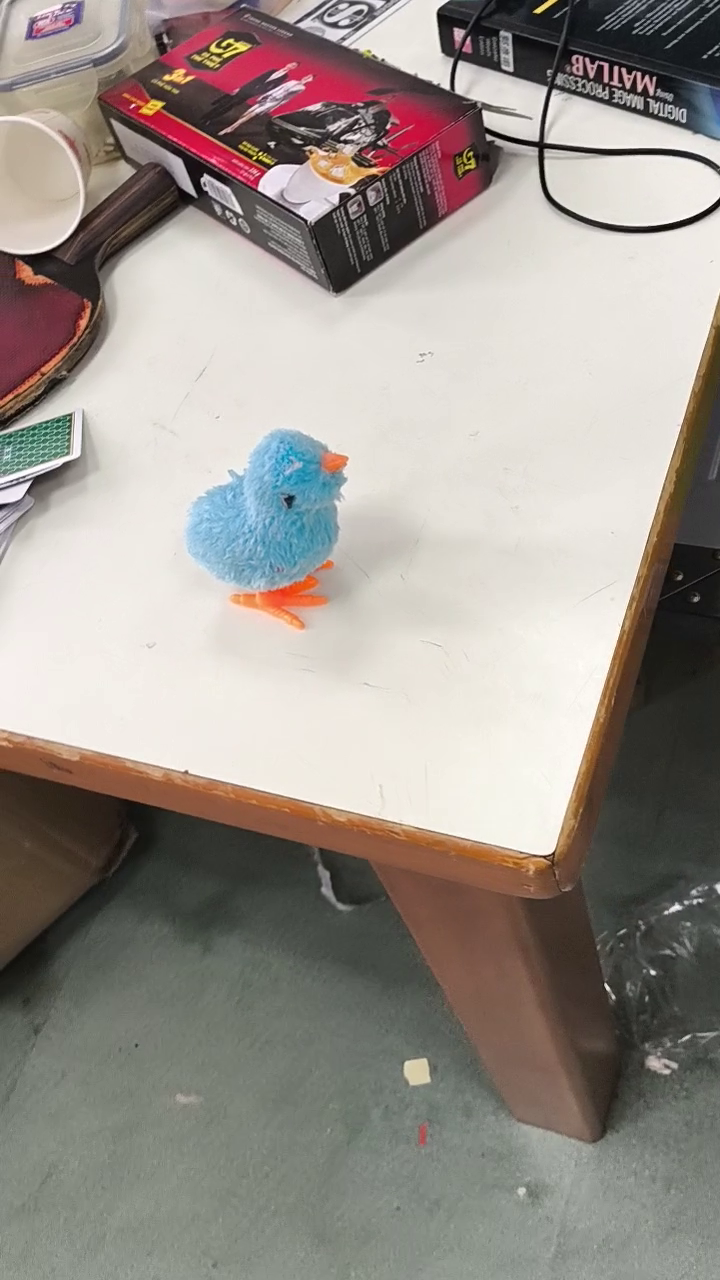blue chicken: (178, 425, 355, 636)
